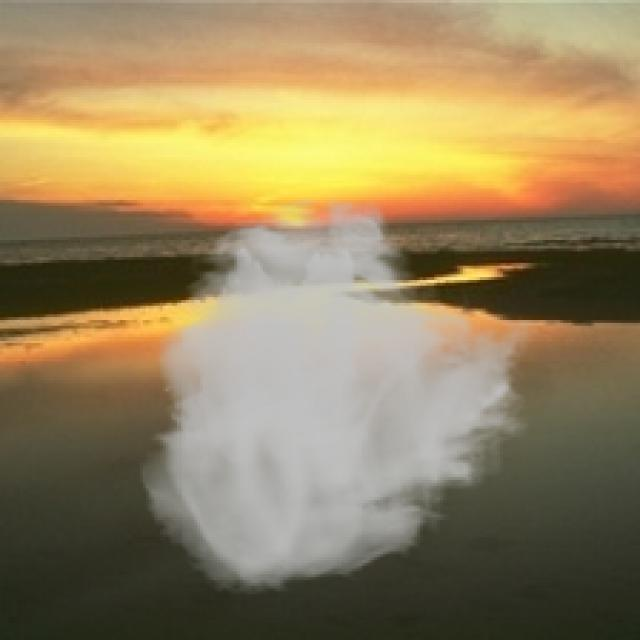Smoke: (137, 194, 540, 597)
